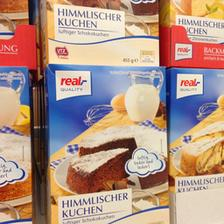Kuchen: (41, 67, 171, 223), (166, 63, 222, 207)
